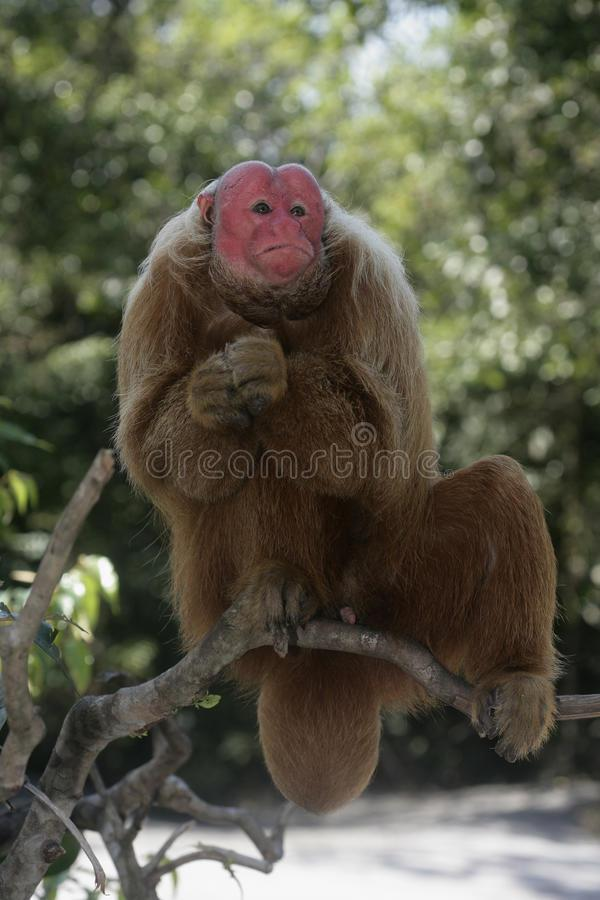monkey: (134, 164, 557, 819)
